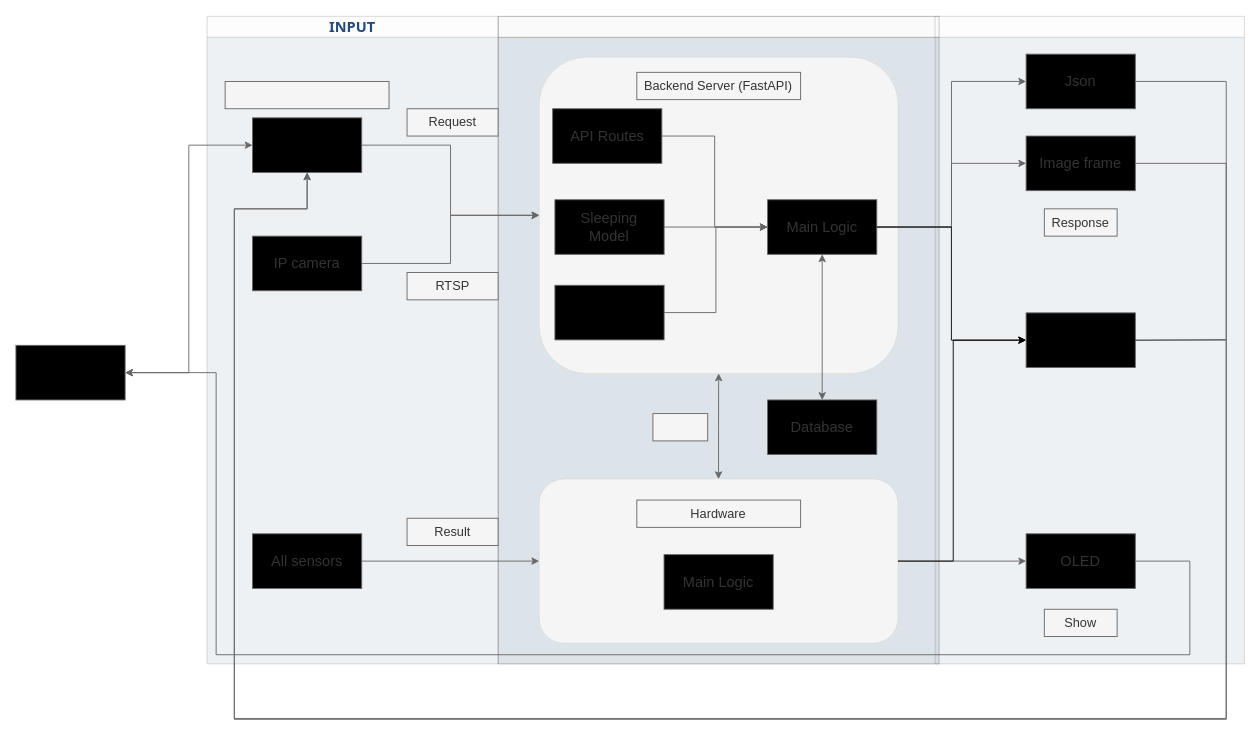
Image size: 1260x743. Some labels were removed from this diagram. Here are the shapes that lost their labels. From the top down, the box of each, then its label:
(224, 81, 389, 109): Frontend (Angular)
(252, 117, 362, 172): Web application
(554, 284, 664, 340): Web socket Routes
(497, 15, 939, 664): PROCESS
(1025, 312, 1135, 367): Alert
(934, 15, 1244, 664): OUTPUT
(15, 344, 125, 400): User
(652, 413, 708, 441): MQTT
